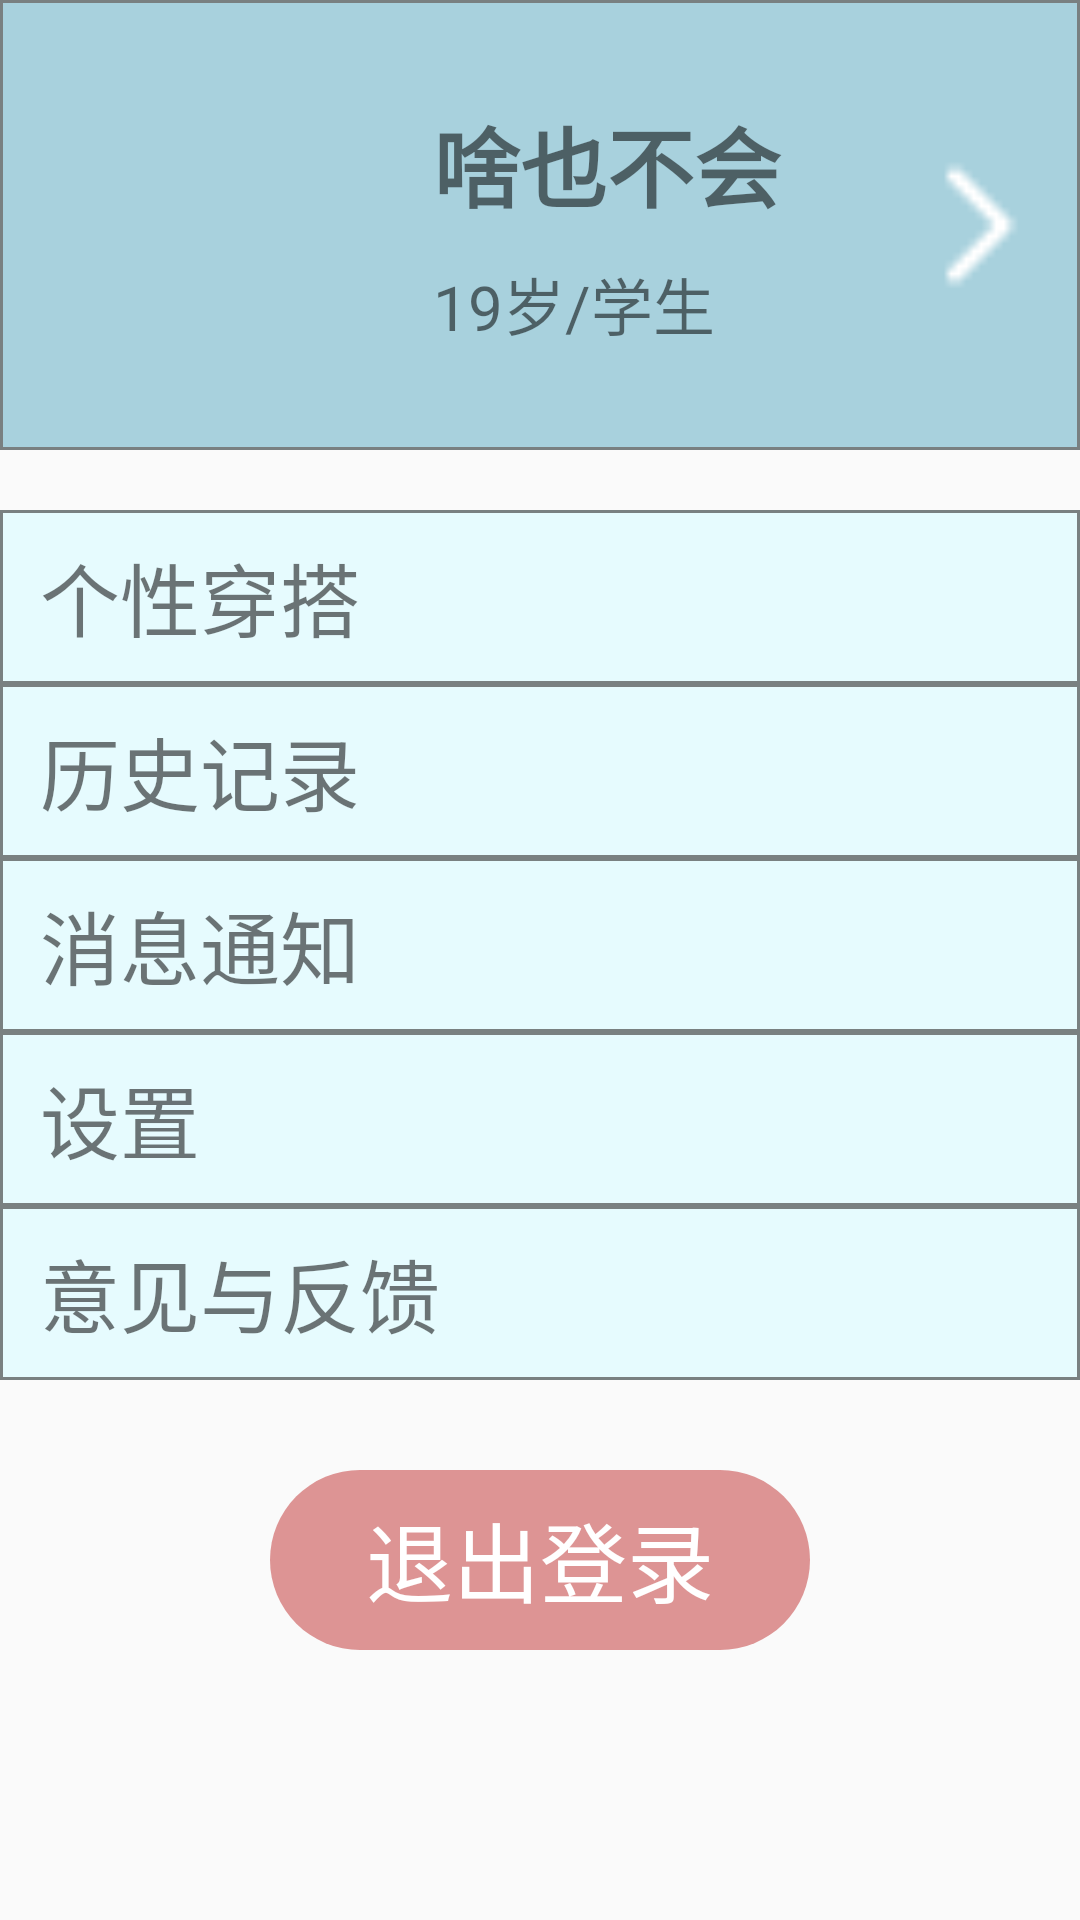

Locate icon controls on the screen. Image size 1080x1920, boxes as (x1, y1, x2, y2).
arrow forward: (946, 168, 1013, 283)
